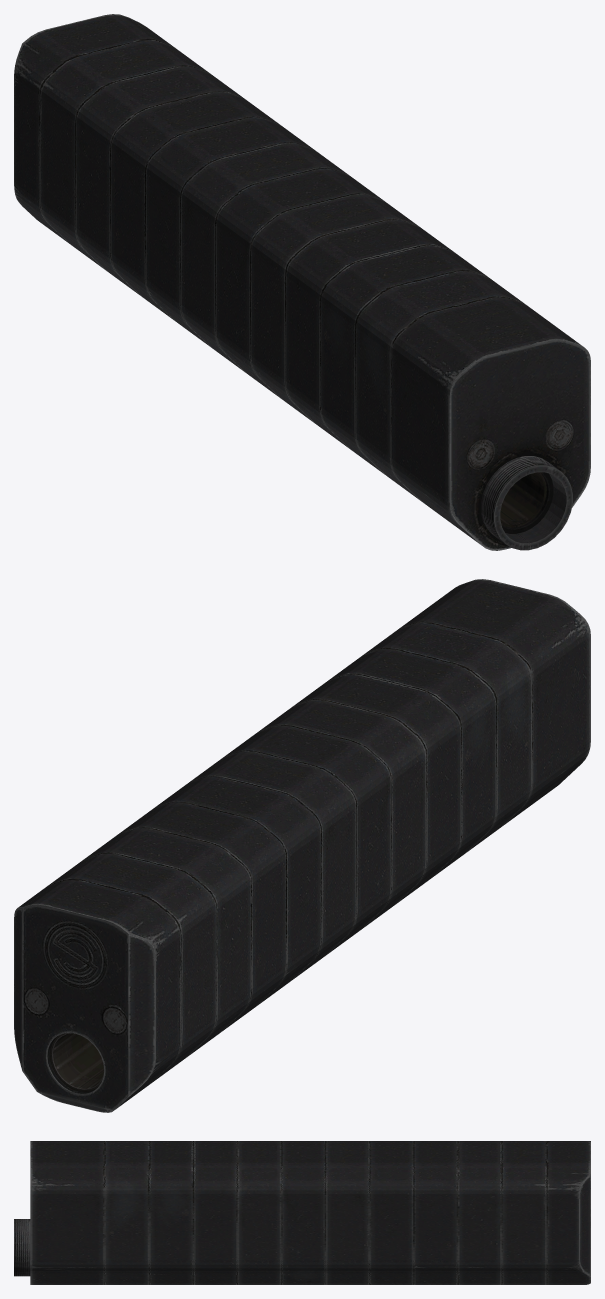
The picture shows the model from 3 angles, top to bottom: view 1: azimuth 30°, elevation 25°; view 2: azimuth 150°, elevation 25°; view 3: azimuth 270°, elevation 25°; orthographic projection. The views are drawn at different scales.
Visible parts, largest first — view 1: TW_5b363dd25acfc4001a598fd2_PZ_Import; view 2: TW_5b363dd25acfc4001a598fd2_PZ_Import; view 3: TW_5b363dd25acfc4001a598fd2_PZ_Import.
Boxes of the visible parts, box(x1,y1,x2,y2) form: TW_5b363dd25acfc4001a598fd2_PZ_Import: box(14, 14, 590, 550); TW_5b363dd25acfc4001a598fd2_PZ_Import: box(14, 579, 590, 1112); TW_5b363dd25acfc4001a598fd2_PZ_Import: box(14, 1141, 590, 1284).
Bounding box in the file's own units: 0.0324 × 0.1818 × 0.0434.
1 material, 1 textured.
